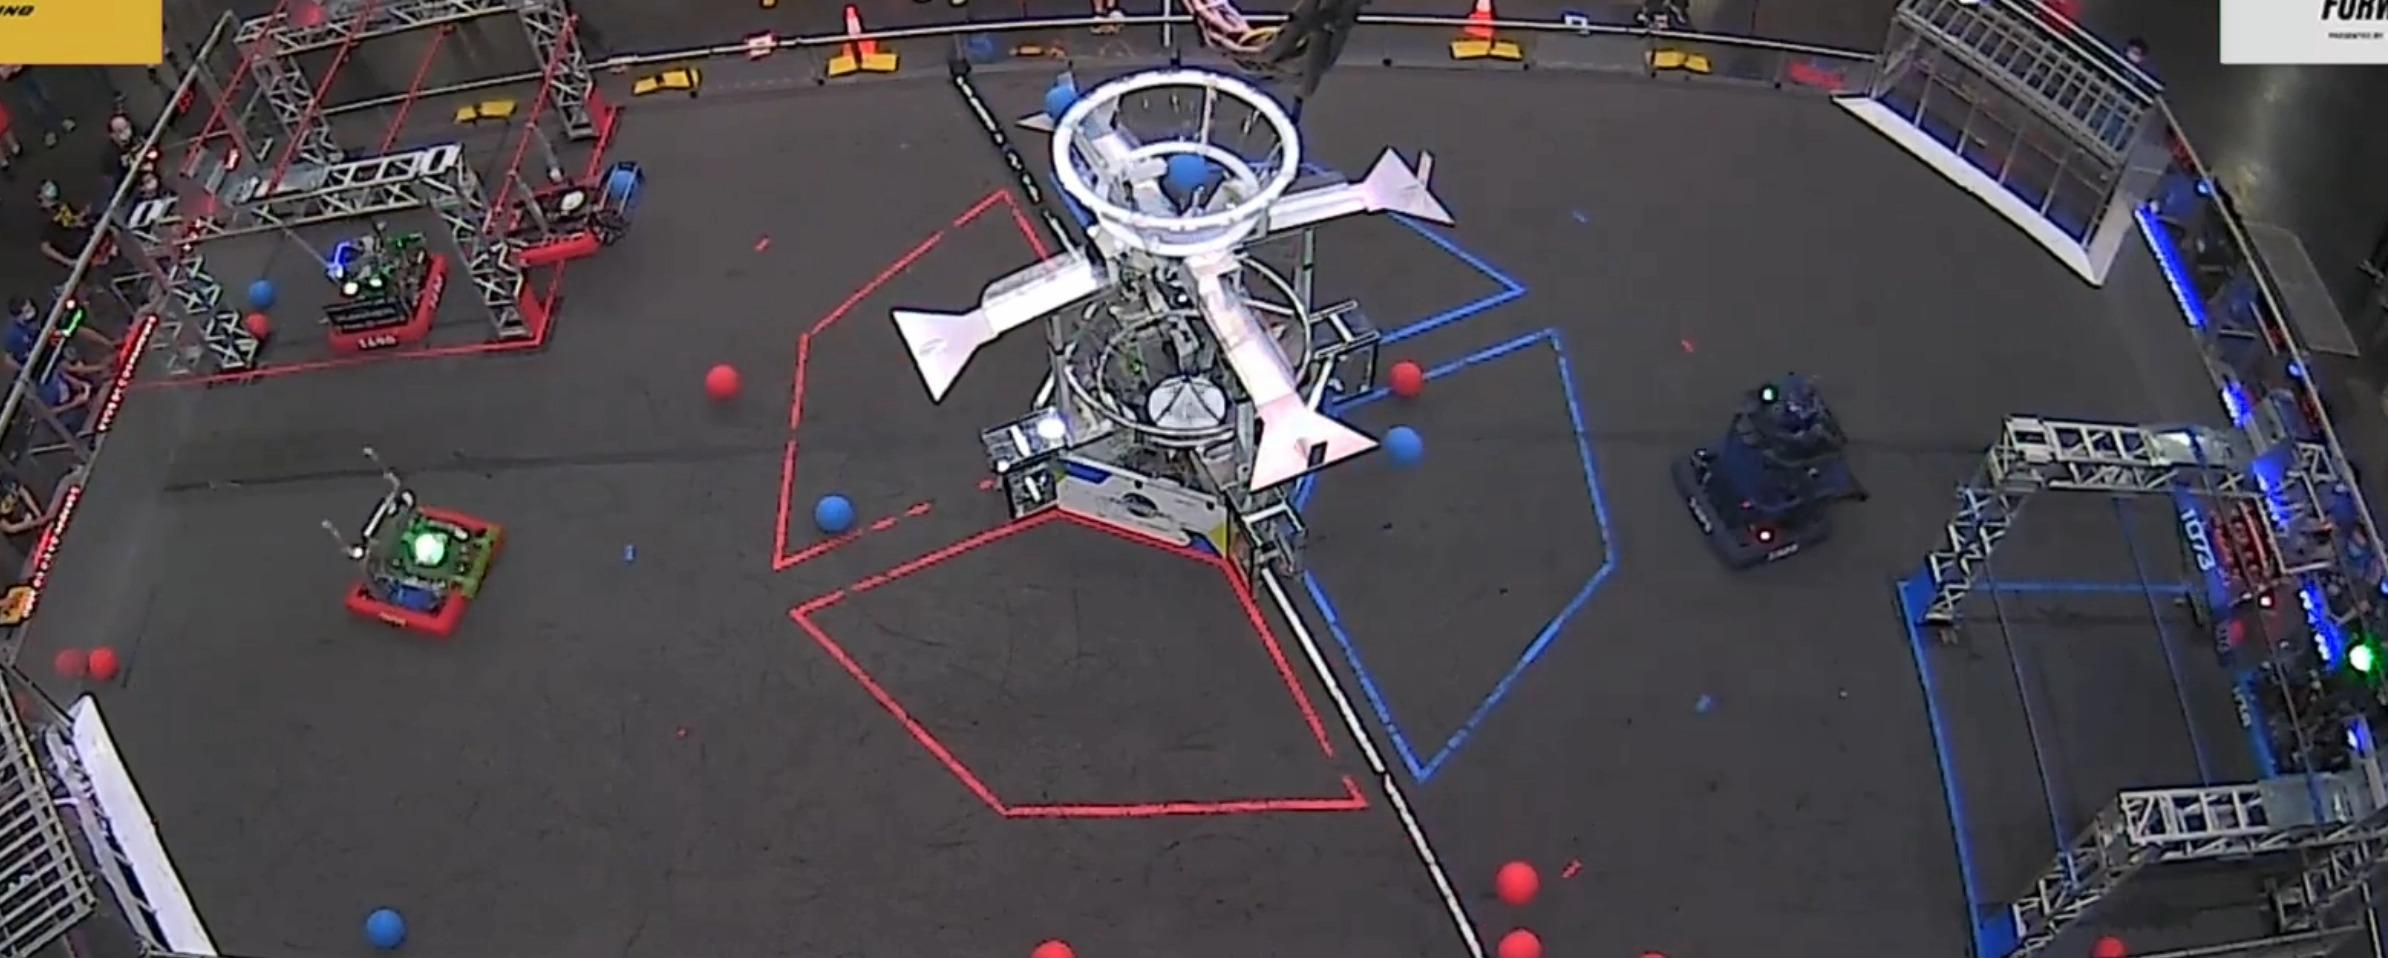Robots: (1669, 373, 1872, 571), (320, 446, 500, 638), (2179, 472, 2353, 614), (2245, 615, 2388, 769), (318, 219, 446, 350), (506, 164, 644, 263)
